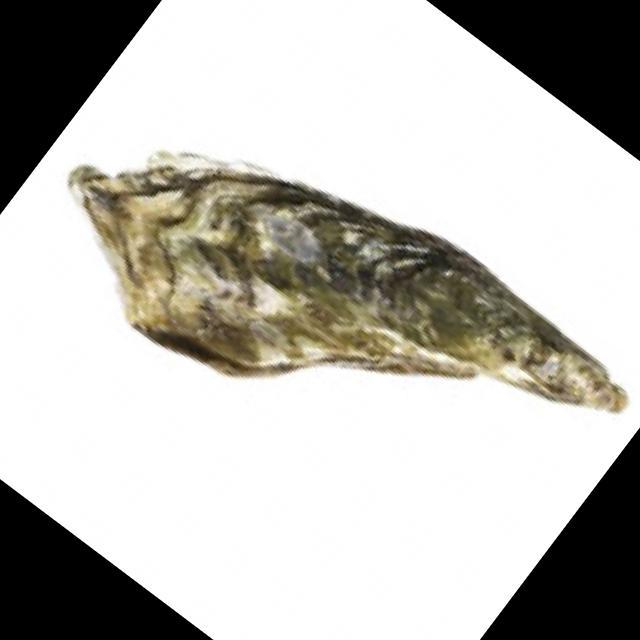Oyster- Indeterminate: (67, 152, 627, 415)
